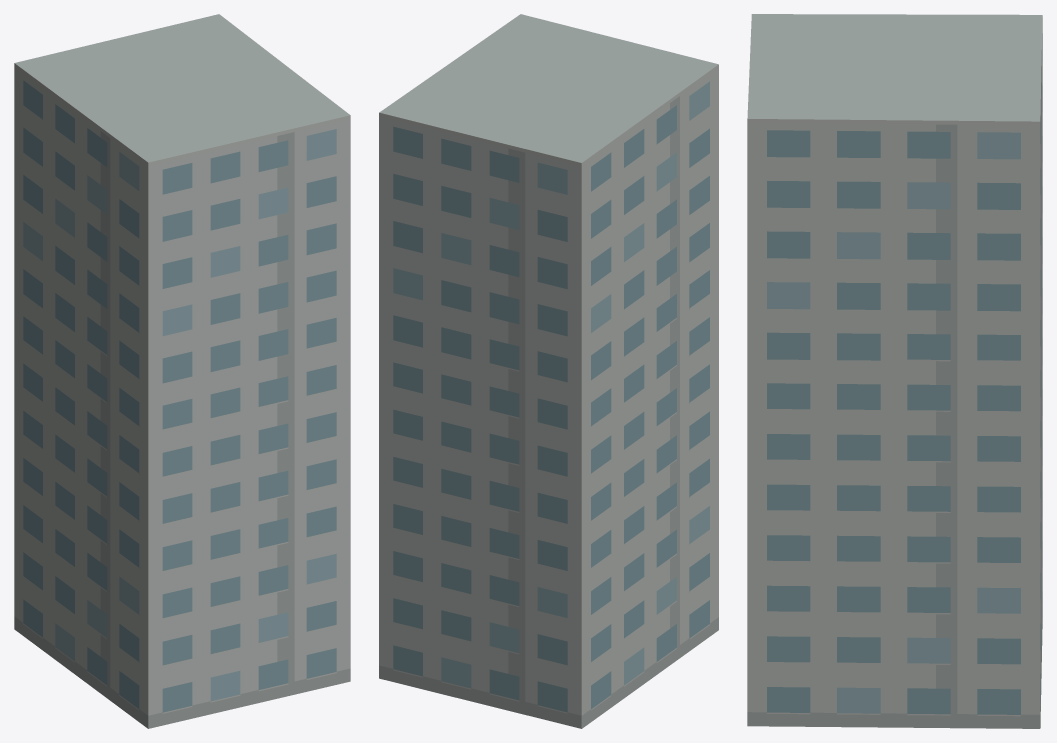
The model's file is residential-049c86cf-11dd-4397-9913-6da3eec91e3e.glb.
3 views of the same model, side by side, from view 1: azimuth 30°, elevation 25°; view 2: azimuth 150°, elevation 25°; view 3: azimuth 270°, elevation 25° (orthographic). The views are drawn at different scales.
Parts seen in each view (by area): view 1: residential-049c86cf-11dd-4397-9913-6da3eec91e3e.tmp; view 2: residential-049c86cf-11dd-4397-9913-6da3eec91e3e.tmp; view 3: residential-049c86cf-11dd-4397-9913-6da3eec91e3e.tmp.
Boxes of the visible parts, x1,y1,x2,y2 form: residential-049c86cf-11dd-4397-9913-6da3eec91e3e.tmp: [14, 14, 350, 728]; residential-049c86cf-11dd-4397-9913-6da3eec91e3e.tmp: [379, 14, 718, 728]; residential-049c86cf-11dd-4397-9913-6da3eec91e3e.tmp: [747, 14, 1042, 728].
Size of the model in its own units: 14.44 by 38 by 16.74.
